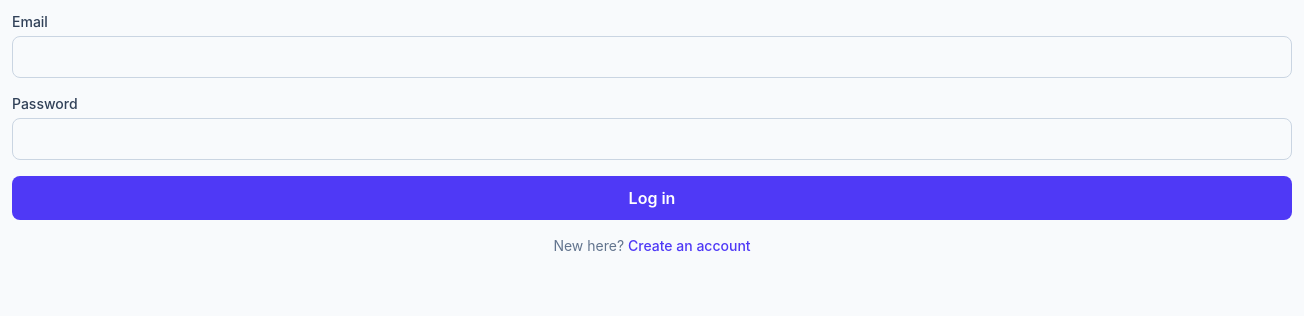
Test: LoginForm — interaction › should show MFA step when mfaRequired is true
This screenshot has width=1304, height=316.
Type "mfa@test.com" into the field labelled "Email" at (652, 57), box [12, 36, 1292, 78]
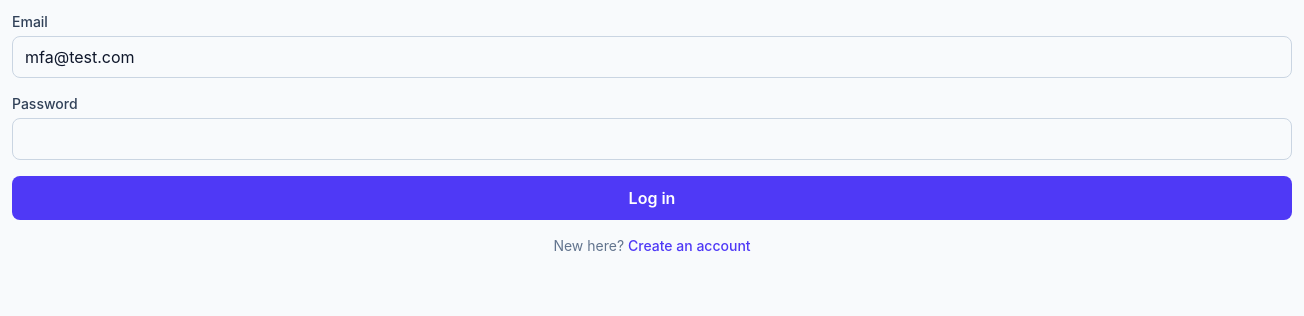
Type "pass" into the password field labelled "Password" at (652, 139), box [12, 118, 1292, 160]
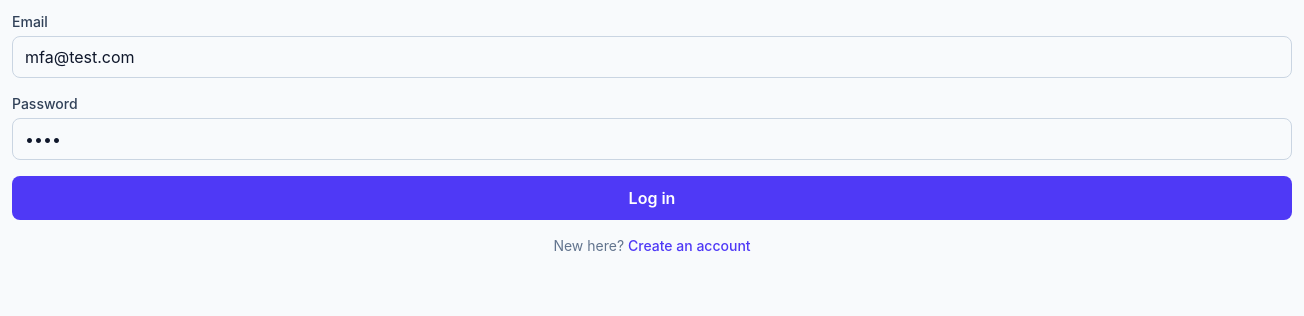
Click the button "Log in" at (652, 198), box [12, 176, 1292, 220]
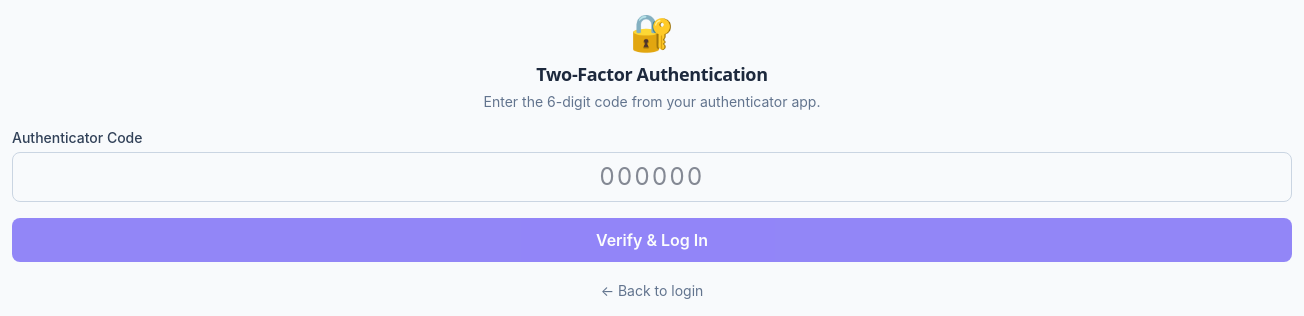
Check: the heading "Two-Factor Authentication" is shown, box [536, 62, 768, 86]
Check: the text "Enter the 6-digit code from your authenticator app." is shown, box [484, 93, 820, 110]
